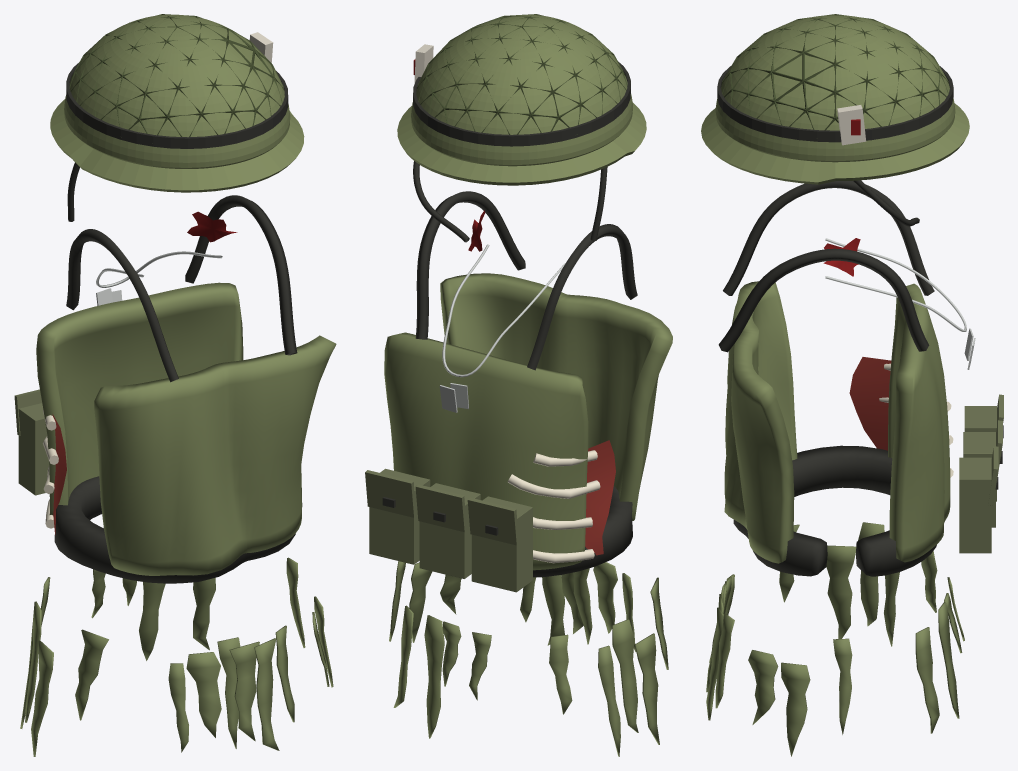
File: zombies.glb
3 views of the same model, side by side, from view 1: azimuth 30°, elevation 25°; view 2: azimuth 150°, elevation 25°; view 3: azimuth 270°, elevation 25° (orthographic).
Parts seen in each view (by area): view 1: acc_zgilet, acc_zcasque, acc_zlambeaux, acc_zcotes, acc_zplaques, acc_zmorsure; view 2: acc_zgilet, acc_zcasque, acc_zlambeaux, acc_zcotes, acc_zplaques; view 3: acc_zgilet, acc_zcasque, acc_zlambeaux, acc_zcotes, acc_zplaques.
Boxes of the visible parts, left/top/right/bottom form: acc_zgilet: left=14, top=195, right=336, bottom=583; acc_zcasque: left=50, top=14, right=304, bottom=221; acc_zlambeaux: left=20, top=557, right=333, bottom=756; acc_zcotes: left=43, top=410, right=66, bottom=535; acc_zplaques: left=96, top=251, right=222, bottom=305; acc_zmorsure: left=187, top=211, right=237, bottom=242; acc_zgilet: left=365, top=191, right=672, bottom=592; acc_zcasque: left=397, top=14, right=646, bottom=242; acc_zlambeaux: left=389, top=561, right=668, bottom=756; acc_zcotes: left=507, top=440, right=615, bottom=563; acc_zplaques: left=439, top=244, right=565, bottom=412; acc_zgilet: left=718, top=181, right=1003, bottom=576; acc_zcasque: left=701, top=14, right=969, bottom=226; acc_zlambeaux: left=706, top=522, right=964, bottom=756; acc_zcotes: left=849, top=357, right=953, bottom=477; acc_zplaques: left=825, top=238, right=975, bottom=369.
Size of the model in its own units: 0.3858 by 0.9311 by 0.3719.
